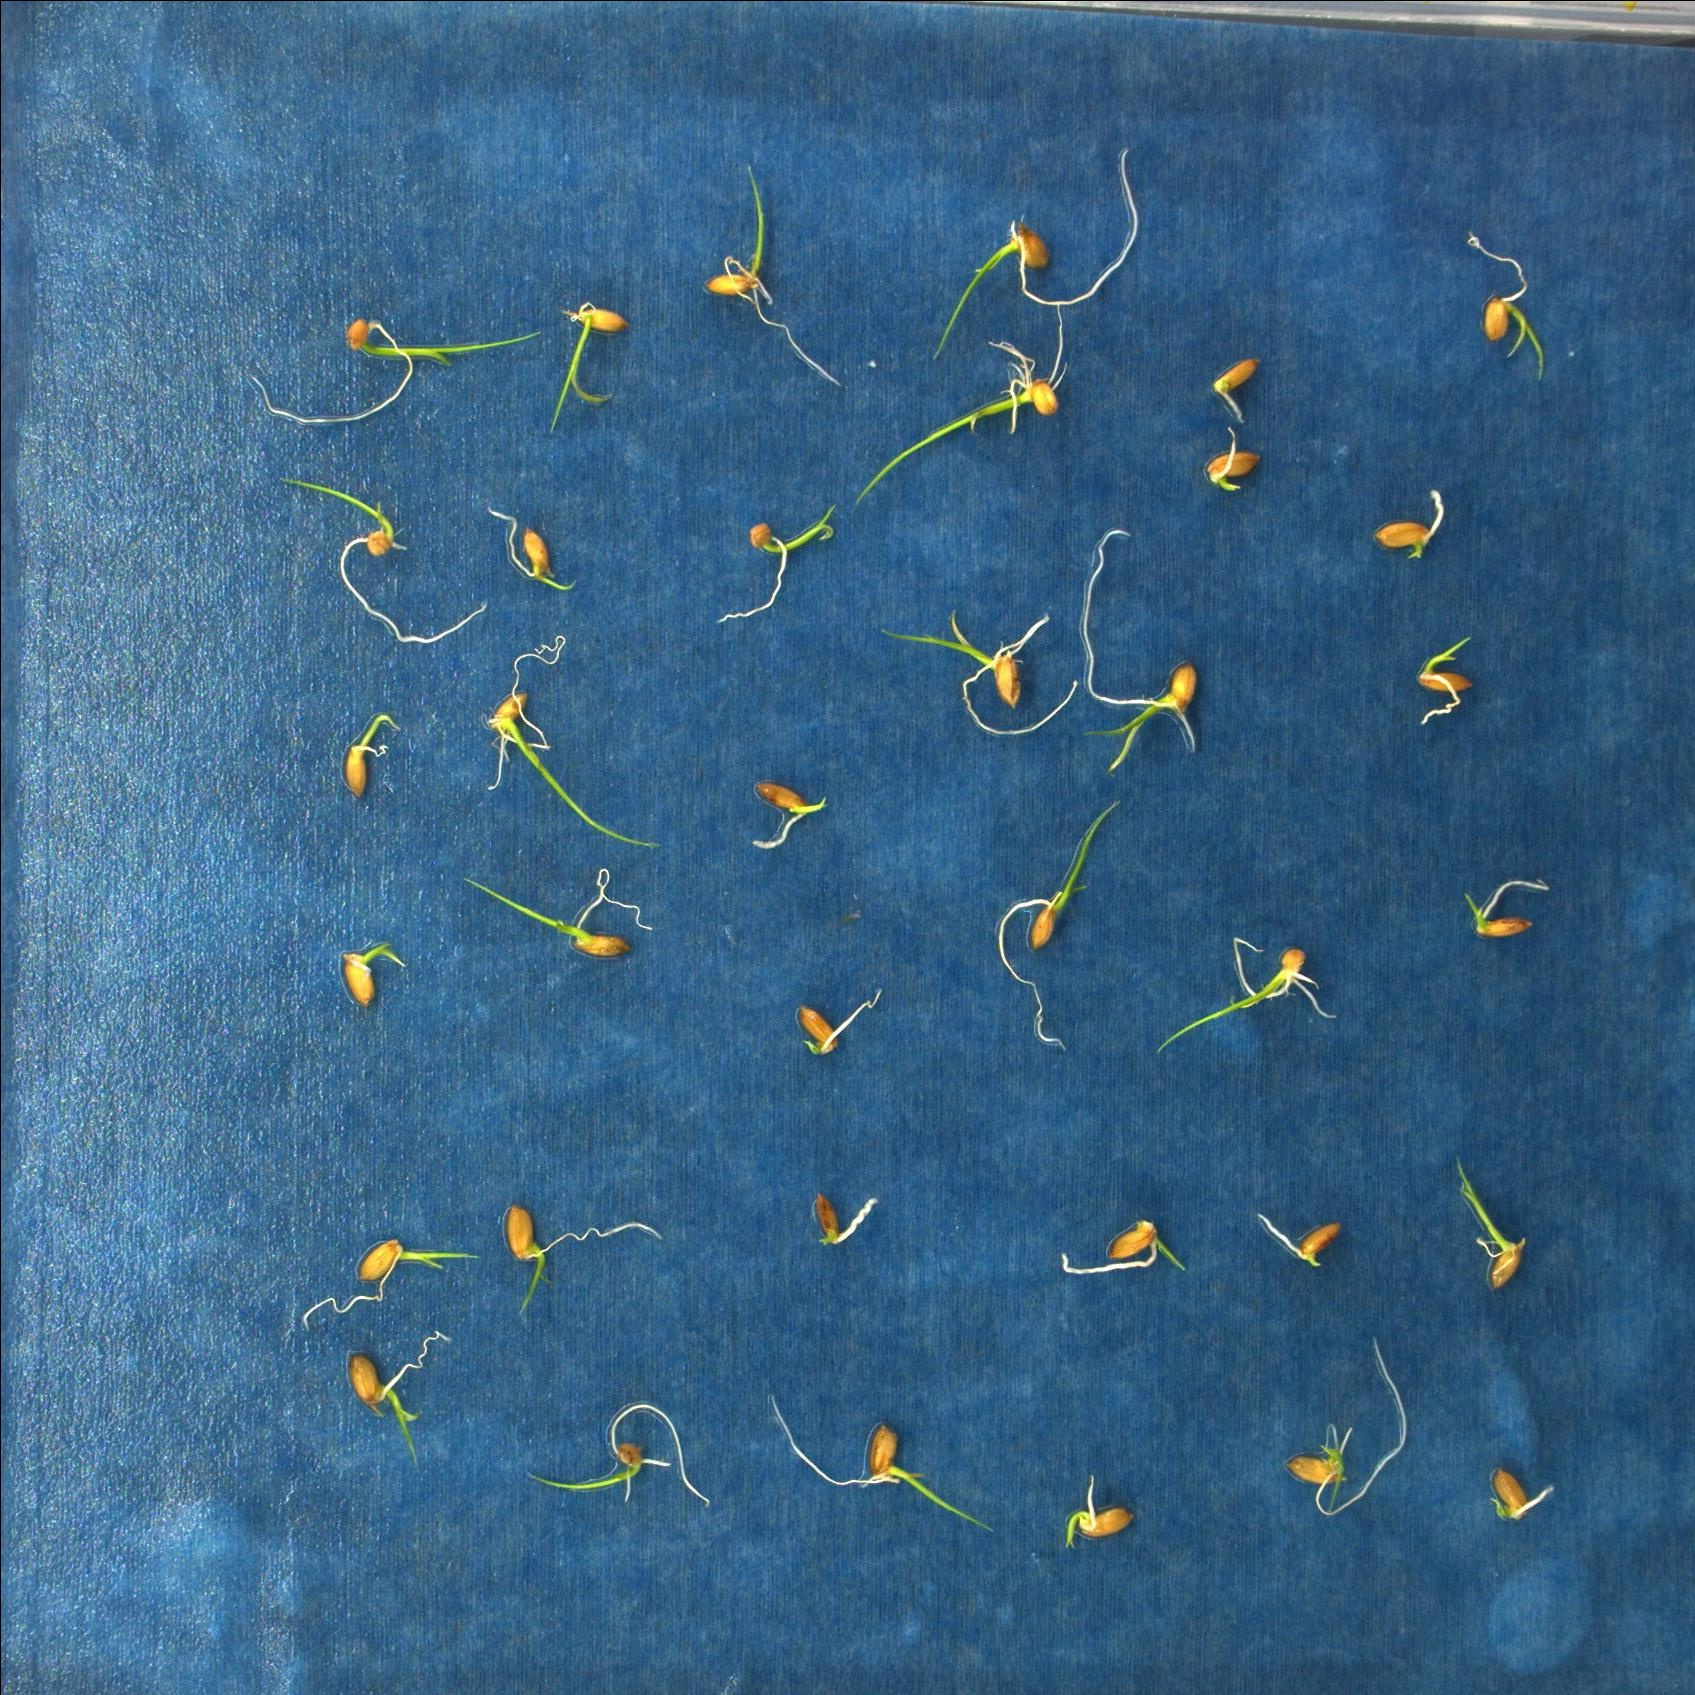not sprout: (1253, 1201, 1350, 1270), (795, 987, 882, 1059), (1482, 1462, 1558, 1527), (1374, 489, 1444, 557), (1208, 352, 1260, 428), (810, 1187, 879, 1243), (1206, 425, 1260, 492)
sprout: (933, 144, 1138, 365), (858, 307, 1069, 508), (486, 635, 655, 855), (764, 1389, 1001, 1538), (276, 478, 487, 643), (251, 317, 553, 424), (998, 795, 1119, 1057), (1076, 525, 1197, 773), (705, 161, 838, 386), (877, 608, 1079, 736), (1284, 1333, 1414, 1515), (522, 1399, 717, 1513), (1156, 934, 1335, 1057), (504, 1201, 667, 1316), (463, 868, 653, 958), (298, 1236, 481, 1322), (716, 506, 843, 630), (1445, 1153, 1534, 1298), (346, 1326, 435, 1464), (1465, 231, 1544, 383), (549, 303, 630, 432), (484, 500, 577, 590), (1059, 1215, 1189, 1273), (1062, 1465, 1135, 1554), (1459, 875, 1554, 942), (1417, 630, 1475, 726), (753, 781, 830, 847), (341, 714, 402, 799), (340, 941, 408, 1007)
